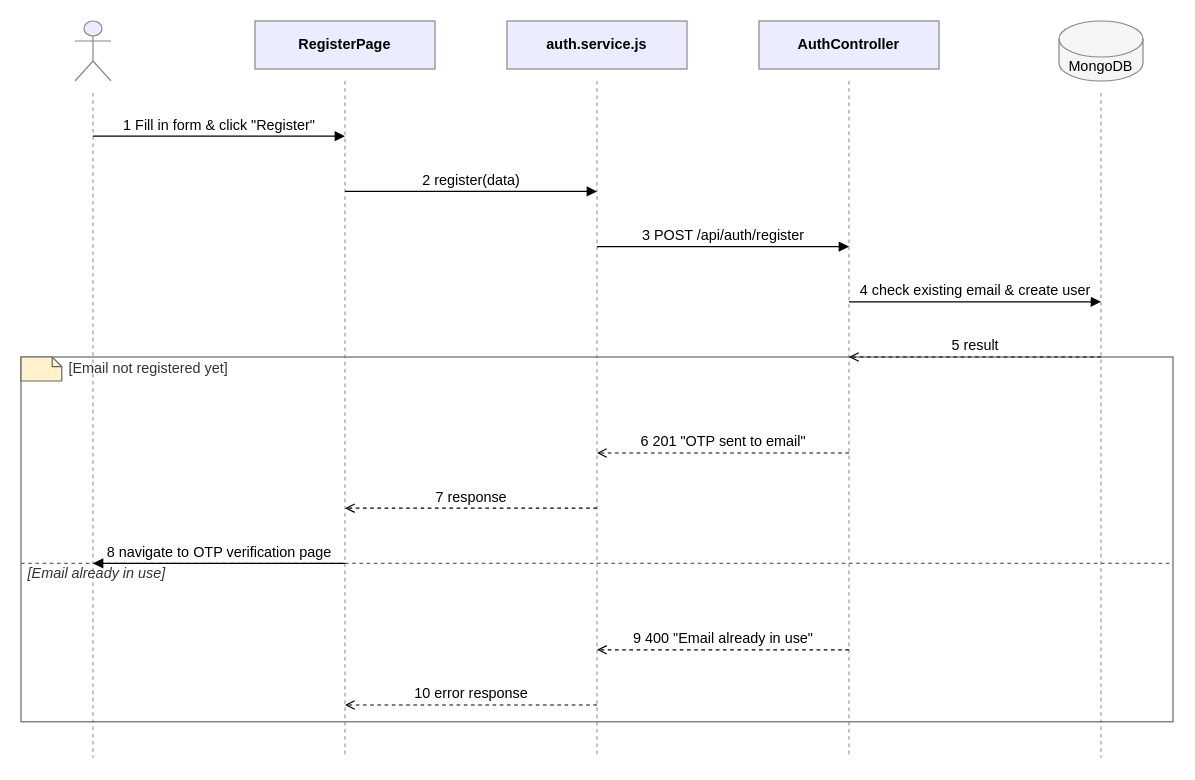
The diagram is 1195 pixels wide and 780 high, and some of its shapes have lost their labels. The shapes that lost their labels are listed below. From the top down, each one's centre as x and y in pixels, then its label:
At [92,50]: "User".
At [41,368]: "alt".
